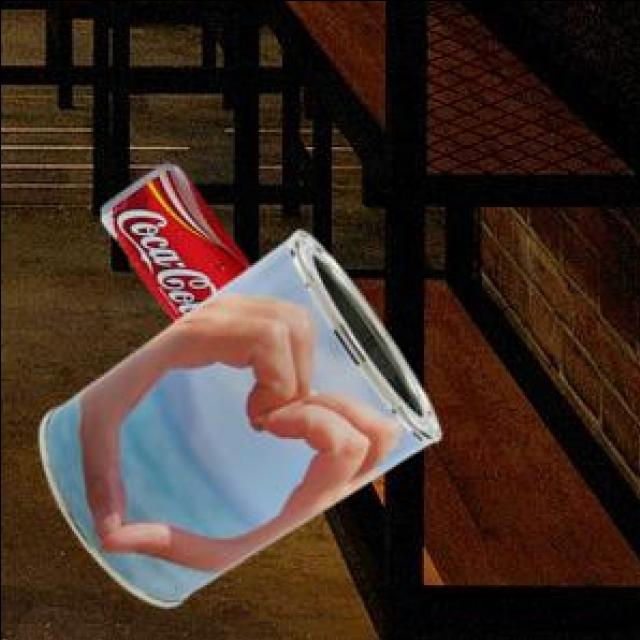logam: (35, 227, 437, 602), (98, 160, 248, 319)
